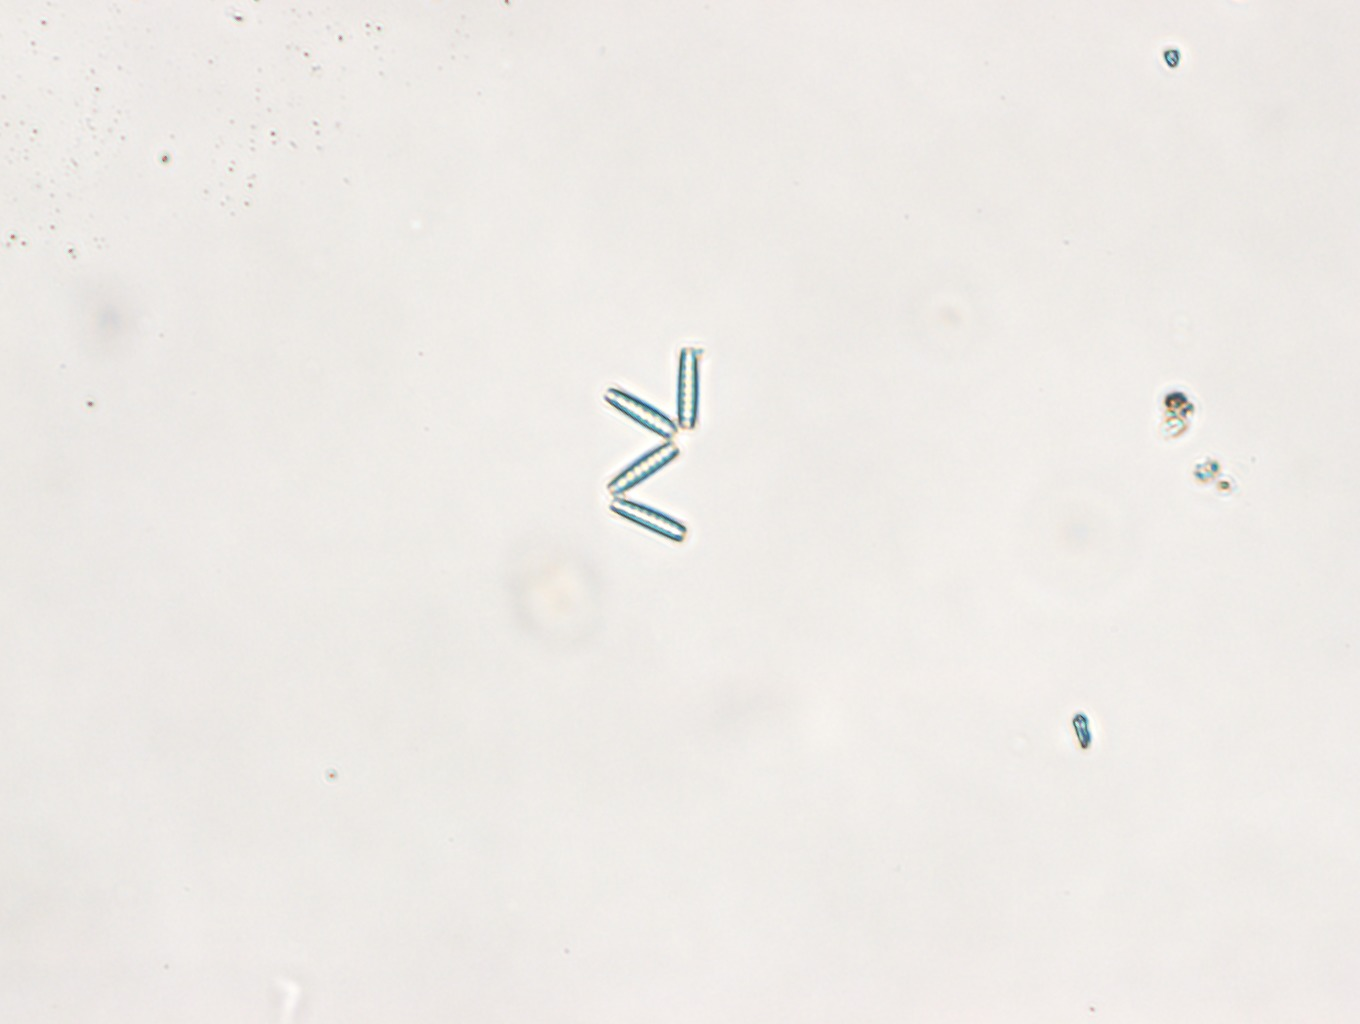thalassionema nitzschioides: (602, 345, 701, 544)
